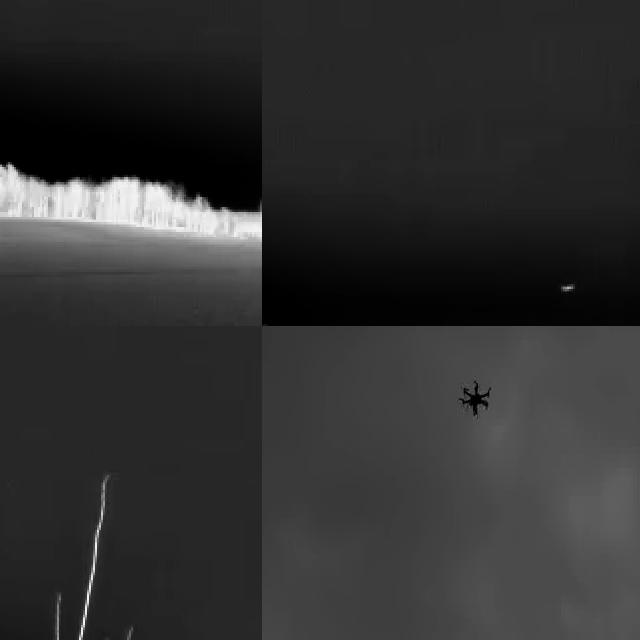1: (550, 274, 590, 309)
drone: (457, 372, 494, 419)
